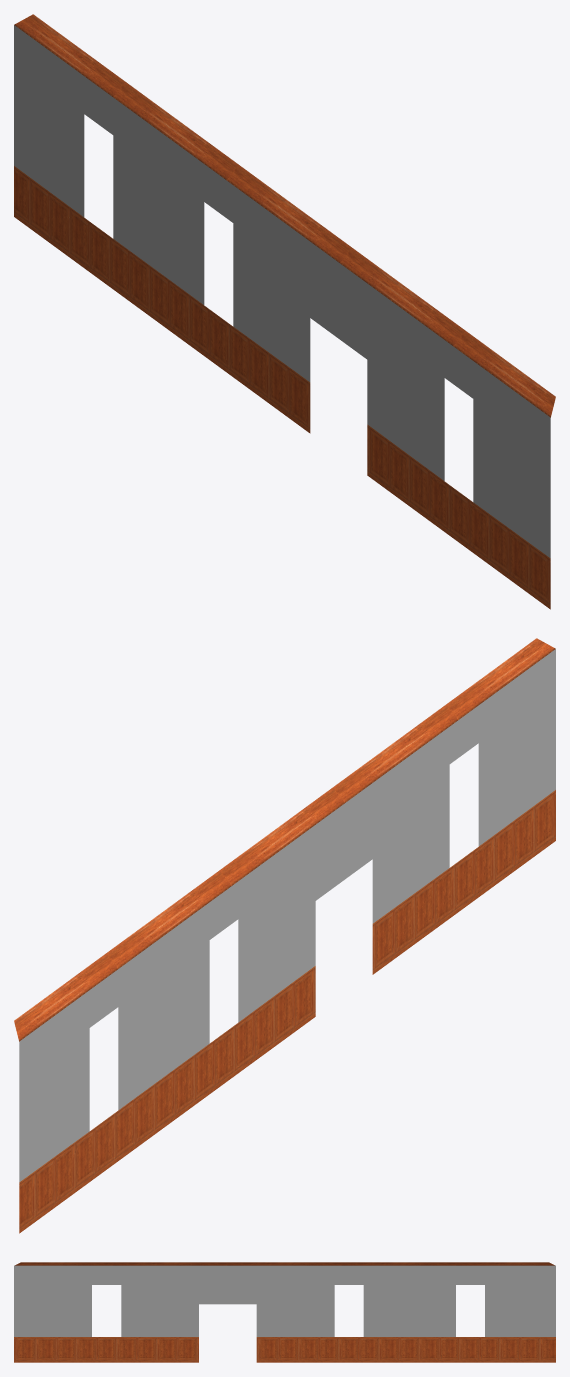
File: Wand_19_07.dae
The picture shows the model from 3 angles, top to bottom: view 1: azimuth 30°, elevation 25°; view 2: azimuth 150°, elevation 25°; view 3: azimuth 270°, elevation 25°; orthographic projection. The views are drawn at different scales.
Visible parts, largest first — view 1: Wand_19.006; view 2: Wand_19.006; view 3: Wand_19.006.
Part boxes in pixels (box(x1,y1,x2,y2)): Wand_19.006: box(14, 14, 555, 609); Wand_19.006: box(14, 638, 555, 1233); Wand_19.006: box(14, 1262, 555, 1362).
Bounding box in the file's own units: 0.25 × 19 × 4.
